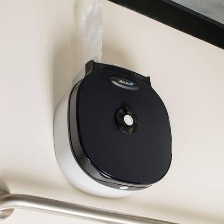plastic_box: (45, 54, 178, 204)
tissue: (75, 0, 108, 74)
